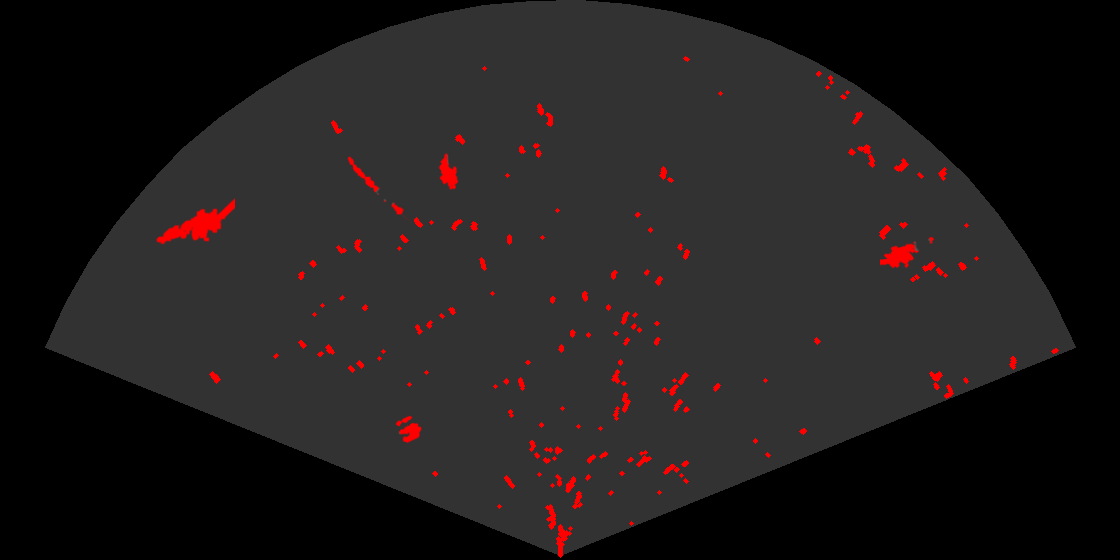AUV: (437, 151, 460, 192)
ball: (394, 414, 423, 444)
chain: (346, 155, 409, 223)
frogman: (155, 196, 235, 246), (880, 235, 936, 270)
